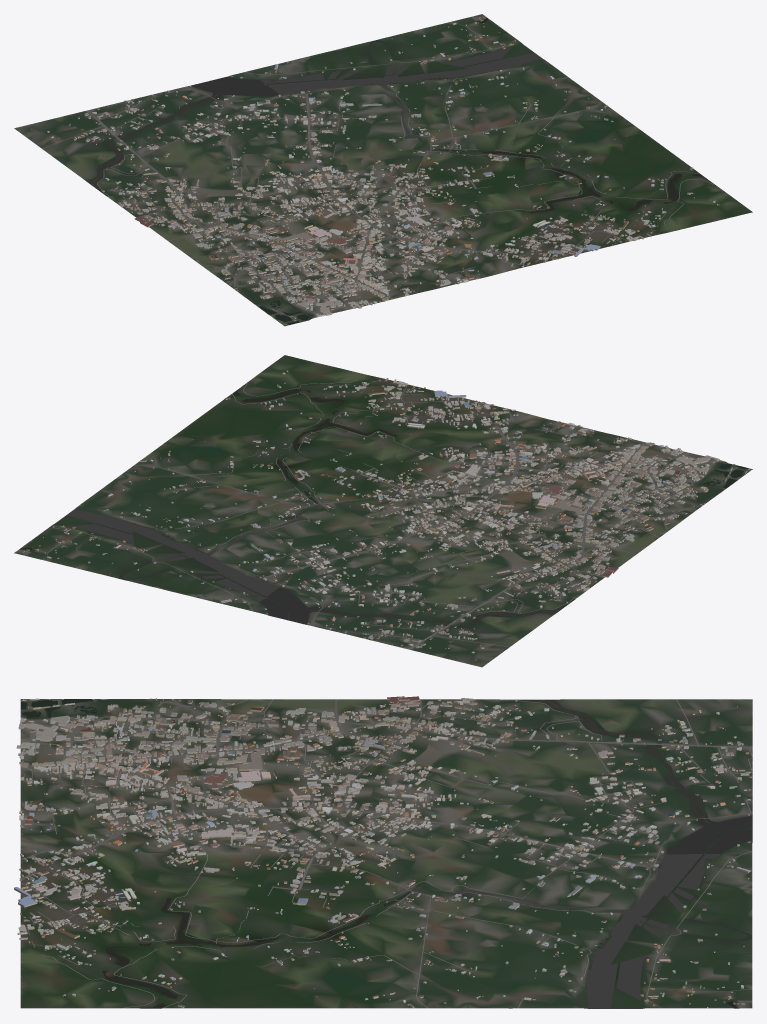
The picture shows the model from 3 angles, top to bottom: view 1: azimuth 30°, elevation 25°; view 2: azimuth 150°, elevation 25°; view 3: azimuth 270°, elevation 25°; orthographic projection. The views are drawn at different scales.
Parts seen in each view (by area): view 1: ground, buildings, water, roads; view 2: ground, buildings, water, roads; view 3: ground, buildings, water, roads.
Part boxes in pixels (box(x1,y1,x2,y2)): ground: box(14, 14, 752, 326); buildings: box(30, 16, 719, 325); water: box(87, 18, 706, 325); roads: box(42, 21, 714, 317); ground: box(14, 355, 752, 667); buildings: box(22, 370, 749, 660); water: box(19, 388, 752, 627); roads: box(42, 380, 721, 649); ground: box(20, 699, 752, 1008); buildings: box(14, 696, 752, 1008); water: box(21, 699, 752, 1008); roads: box(19, 699, 752, 1008).
Size of the model in its own units: 2815 by 21.06 by 2828.
